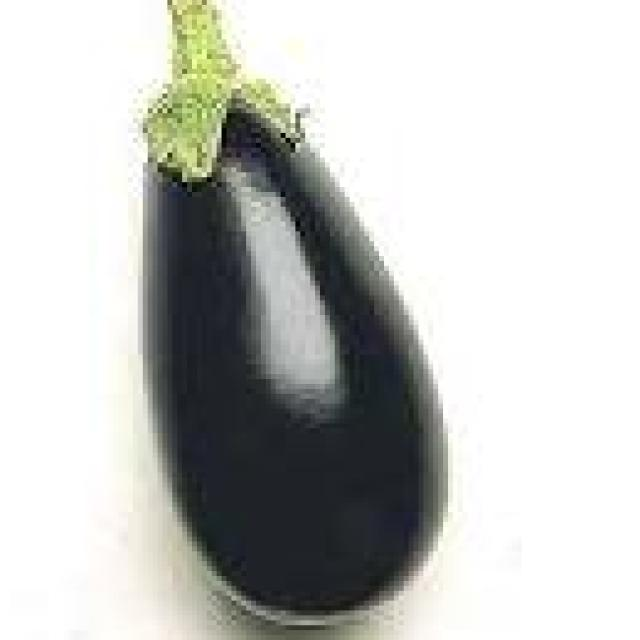aubergine: (118, 0, 458, 640)
